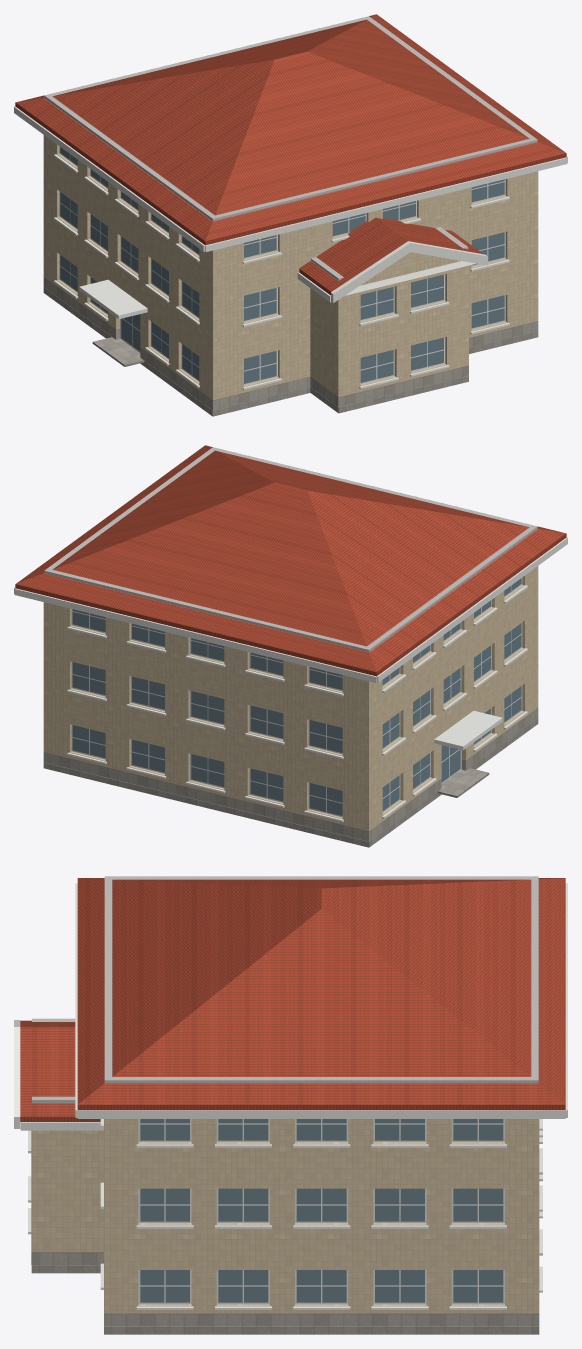
3 views of the same model, one above another, from view 1: azimuth 30°, elevation 25°; view 2: azimuth 150°, elevation 25°; view 3: azimuth 270°, elevation 25° (orthographic). The views are drawn at different scales.
Parts seen in each view (by area): view 1: special2__roof, special2__tile, special2__glass, special2__trim, special2__stone, special2__slab, special2__frame, special2__soffit, special2__threshold-west; view 2: special2__roof, special2__tile, special2__glass, special2__trim, special2__stone, special2__slab, special2__frame, special2__threshold-west; view 3: special2__roof, special2__tile, special2__glass, special2__trim, special2__stone, special2__slab, special2__frame.
Boxes of the visible parts, left/top/right/bottom form: special2__roof: left=15, top=14, right=566, bottom=295; special2__tile: left=43, top=98, right=538, bottom=400; special2__glass: left=60, top=147, right=504, bottom=383; special2__trim: left=14, top=106, right=567, bottom=389; special2__stone: left=43, top=277, right=538, bottom=416; special2__slab: left=44, top=16, right=537, bottom=280; special2__frame: left=59, top=147, right=505, bottom=384; special2__soffit: left=345, top=261, right=475, bottom=295; special2__threshold-west: left=92, top=337, right=144, bottom=366; special2__roof: left=15, top=445, right=566, bottom=676; special2__tile: left=43, top=529, right=538, bottom=831; special2__glass: left=72, top=578, right=521, bottom=815; special2__trim: left=14, top=537, right=567, bottom=822; special2__stone: left=43, top=708, right=538, bottom=847; special2__slab: left=44, top=447, right=537, bottom=651; special2__frame: left=71, top=578, right=522, bottom=817; special2__threshold-west: left=437, top=768, right=489, bottom=797; special2__roof: left=20, top=878, right=565, bottom=1121; special2__tile: left=31, top=879, right=539, bottom=1313; special2__glass: left=140, top=1119, right=503, bottom=1302; special2__trim: left=14, top=883, right=567, bottom=1309; special2__stone: left=31, top=1252, right=539, bottom=1334; special2__slab: left=32, top=876, right=538, bottom=1102; special2__frame: left=138, top=1119, right=504, bottom=1304.
Bounding box in the file's own units: 22.99 × 15.24 × 22.92.
8 materials, 3 textured.
